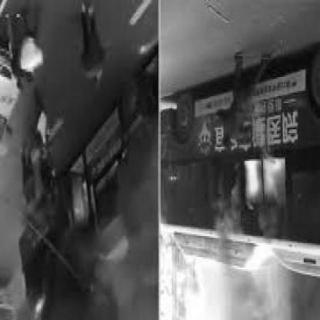Fire: (202, 134, 304, 226), (44, 147, 120, 239)
